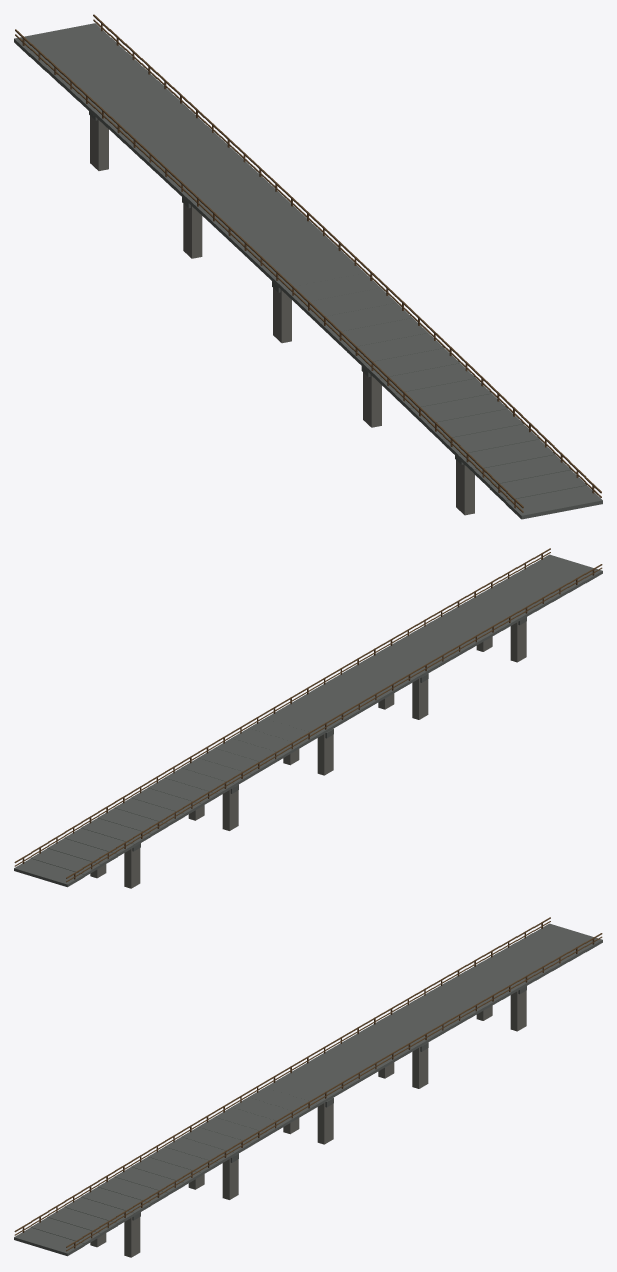
File: togetsukyo.glb
The picture shows the model from 3 angles, top to bottom: view 1: azimuth 30°, elevation 25°; view 2: azimuth 150°, elevation 25°; view 3: azimuth 330°, elevation 25°; orthographic projection. The views are drawn at different scales.
Bounding box in the file's own units: 26.36 × 10.4 × 153.
